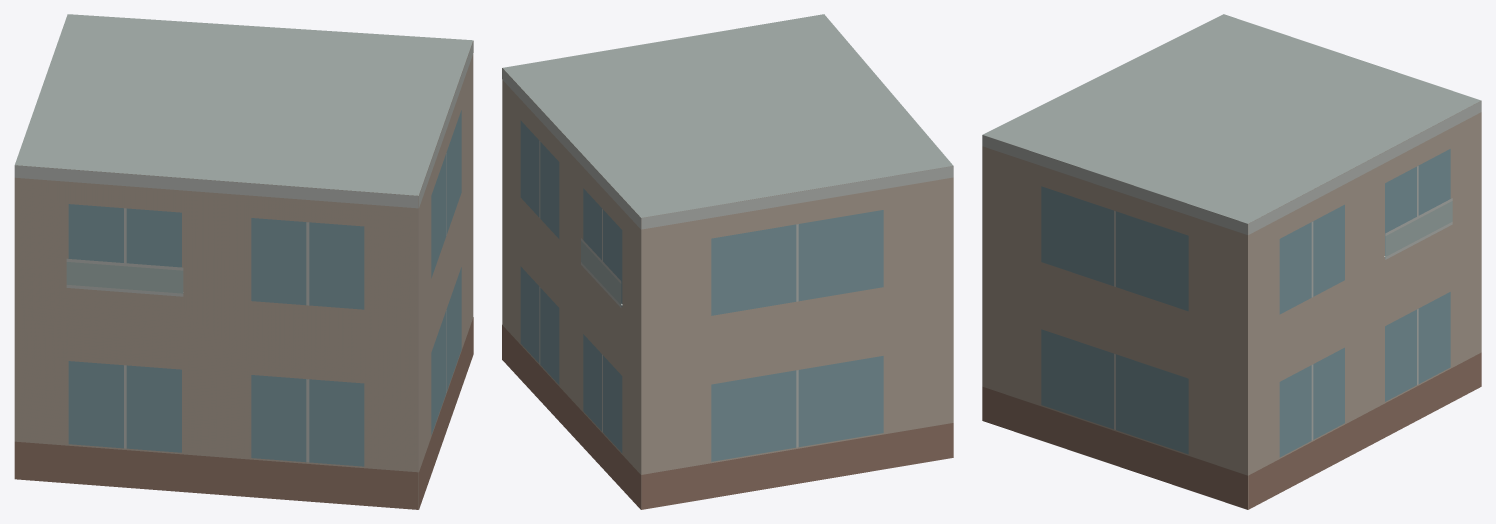
The model's file is survey-upis-32456706.glb.
3 views of the same model, side by side, from view 1: azimuth 30°, elevation 25°; view 2: azimuth 150°, elevation 25°; view 3: azimuth 270°, elevation 25° (orthographic). The views are drawn at different scales.
Visible parts, largest first — view 1: survey-upis-32456706.tmp; view 2: survey-upis-32456706.tmp; view 3: survey-upis-32456706.tmp.
Part boxes in pixels (x1,y1,x2,y2): survey-upis-32456706.tmp: (14,14,473,509); survey-upis-32456706.tmp: (502,14,953,509); survey-upis-32456706.tmp: (982,14,1481,509).
Bounding box in the file's own units: 9.61 × 6.1 × 9.66.
